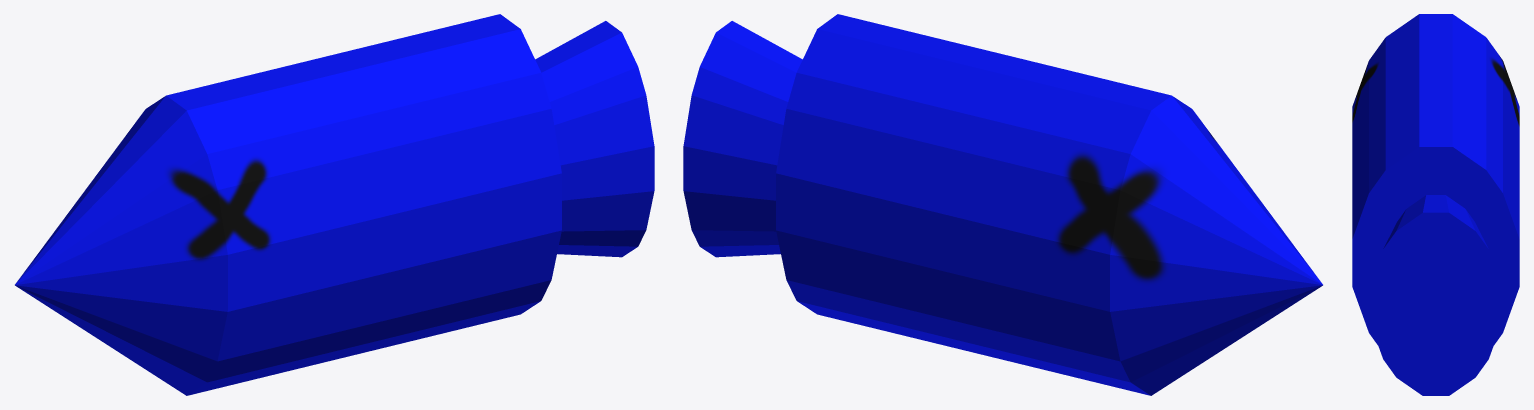
Rendered from fish.fbx.
The picture shows the model from 3 angles, left to right: view 1: azimuth 30°, elevation 25°; view 2: azimuth 150°, elevation 25°; view 3: azimuth 270°, elevation 25°; orthographic projection. The views are drawn at different scales.
Visible parts, largest first — view 1: Fish; view 2: Fish; view 3: Fish.
Part boxes in pixels (x1,y1,x2,y2): Fish: (15, 14, 654, 395); Fish: (683, 14, 1322, 395); Fish: (1352, 14, 1519, 395).
Size of the model in its own units: 4.21 by 1.92 by 1.25.
